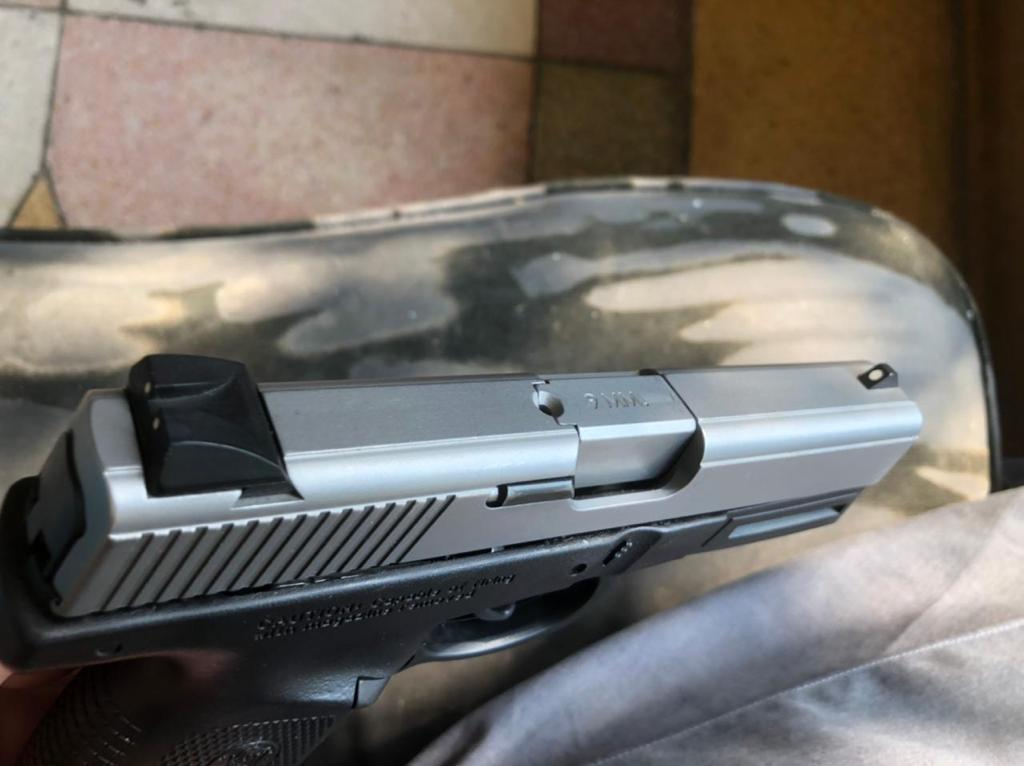weapon: (0, 353, 924, 766)
